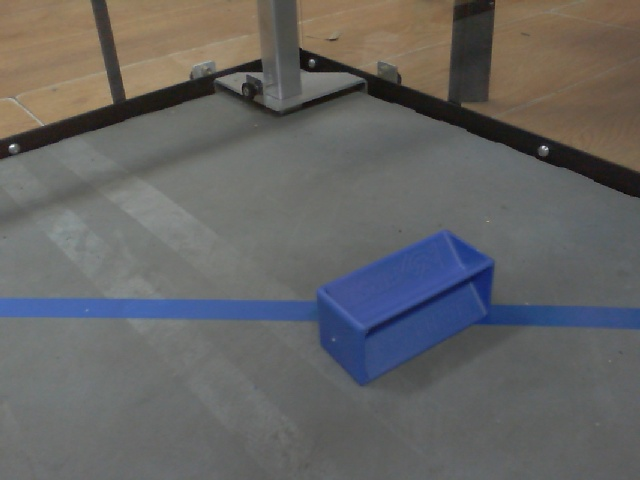BlueSample: (313, 228, 499, 400)
